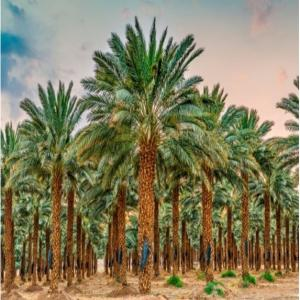palm tree: (75, 14, 209, 294), (12, 78, 90, 294)
